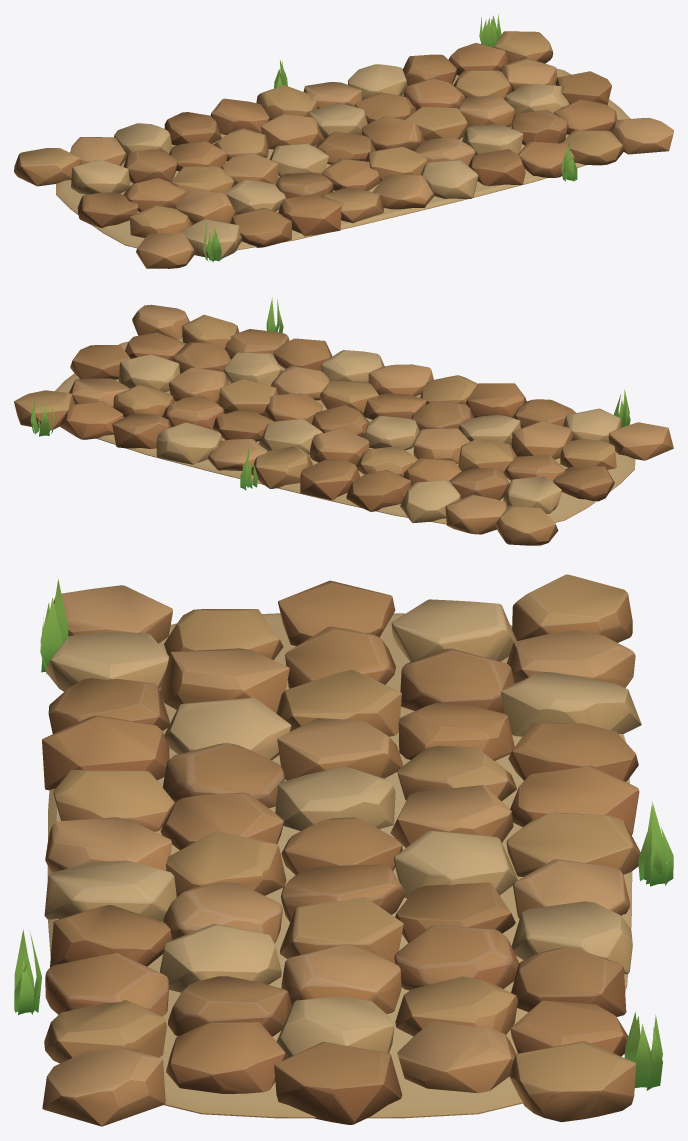
Rendered from path_sandy_b.glb.
3 renders of one model, top to bottom at view 1: azimuth 30°, elevation 25°; view 2: azimuth 150°, elevation 25°; view 3: azimuth 270°, elevation 25°, orthographic. The views are drawn at different scales.
Parts seen in each view (by area): view 1: path_sandy_b; view 2: path_sandy_b; view 3: path_sandy_b.
Boxes of the visible parts, x1,y1,x2,y2 form: path_sandy_b: (14,14,673,268); path_sandy_b: (14,297,673,545); path_sandy_b: (14,574,673,1126).
Bounding box in the file's own units: 2.03 × 0.1622 × 1.08.
